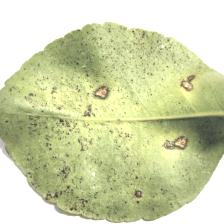canker: (30, 64, 201, 204)
